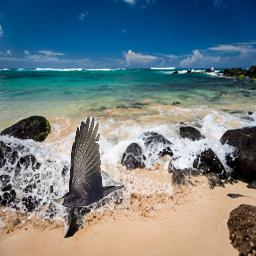Crow: (52, 117, 124, 207)
